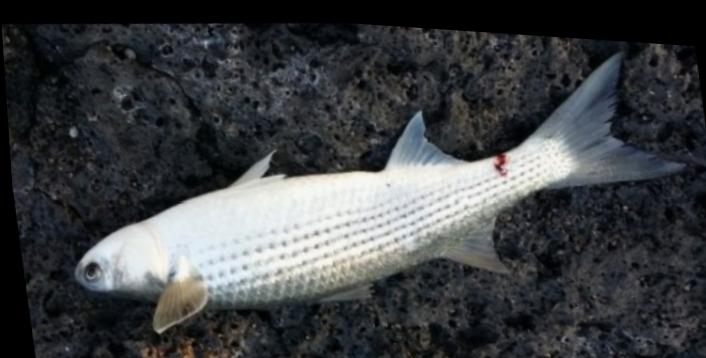fish: (67, 43, 686, 329)
